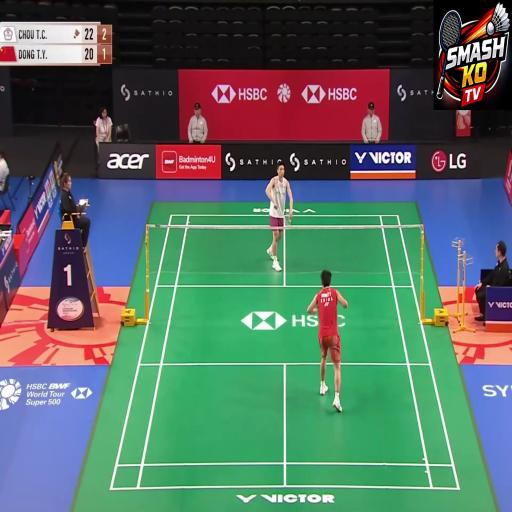player: (306, 260, 350, 408), (260, 138, 298, 262)
